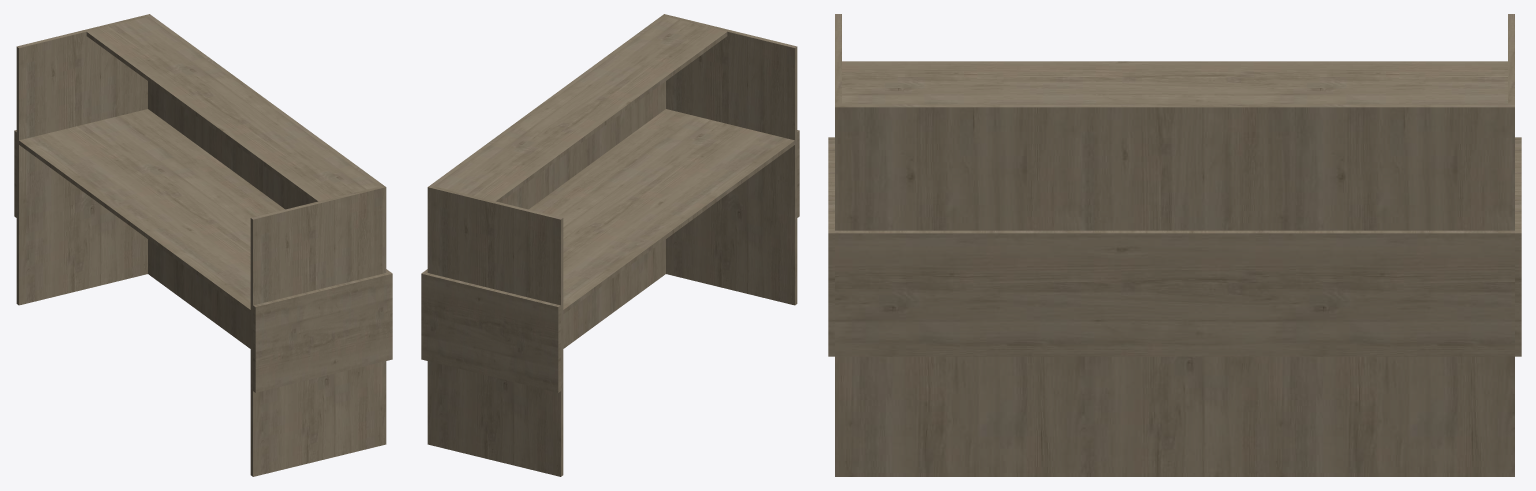
File: res4.glb
The picture shows the model from 3 angles, left to right: view 1: azimuth 30°, elevation 25°; view 2: azimuth 150°, elevation 25°; view 3: azimuth 270°, elevation 25°; orthographic projection. The views are drawn at different scales.
Parts seen in each view (by area): view 1: Box043, Box042, Box044, Box045, Box048, Box041; view 2: Box042, Box043, Box044, Box045, Box047, Box041; view 3: Box041, Box046, Box045, Box047, Box048.
Boxes of the visible parts, bbox=[...] form: Box043: bbox=[16, 15, 147, 305]; Box042: bbox=[250, 186, 382, 476]; Box044: bbox=[19, 109, 284, 313]; Box045: bbox=[86, 17, 379, 202]; Box048: bbox=[253, 272, 392, 392]; Box041: bbox=[146, 14, 386, 445]; Box042: bbox=[666, 15, 797, 305]; Box043: bbox=[431, 186, 563, 476]; Box044: bbox=[529, 109, 794, 313]; Box045: bbox=[434, 17, 727, 202]; Box047: bbox=[421, 272, 560, 392]; Box041: bbox=[427, 14, 667, 445]; Box041: bbox=[835, 104, 1514, 476]; Box046: bbox=[835, 230, 1514, 356]; Box045: bbox=[842, 61, 1507, 104]; Box047: bbox=[1515, 137, 1521, 356]; Box048: bbox=[828, 137, 834, 356].
Bounding box in the file's own units: 0.67 × 1.2 × 2.04.
1 material, 1 textured.
